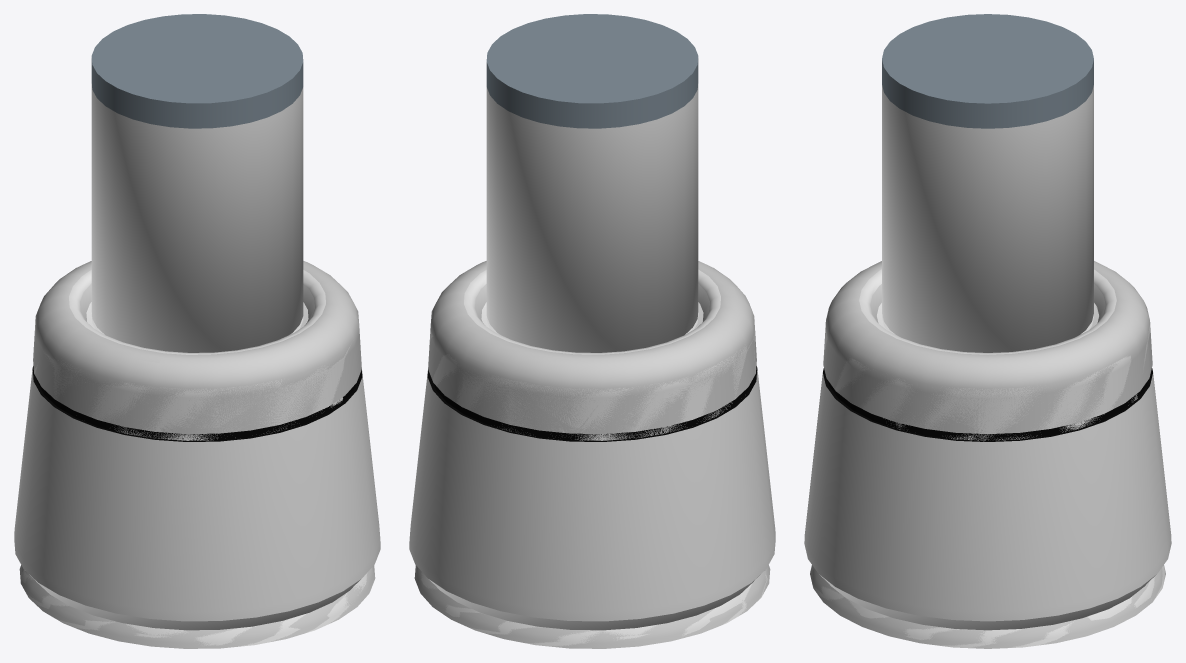
Rendered from incubator2.fbx.
The picture shows the model from 3 angles, left to right: view 1: azimuth 30°, elevation 25°; view 2: azimuth 150°, elevation 25°; view 3: azimuth 270°, elevation 25°; orthographic projection.
Visible parts, largest first — view 1: Circle, Circle.002, Circle.003, Circle.001; view 2: Circle, Circle.002, Circle.003, Circle.001; view 3: Circle, Circle.002, Circle.003, Circle.001.
Part boxes in pixels (x1,y1,x2,y2): Circle: (14,270,380,646); Circle.002: (91,84,303,352); Circle.003: (19,261,375,648); Circle.001: (91,14,303,128); Circle: (409,269,775,646); Circle.002: (486,84,698,352); Circle.003: (414,261,770,648); Circle.001: (486,14,698,128); Circle: (804,269,1171,648); Circle.002: (882,85,1093,352); Circle.003: (810,261,1165,648); Circle.001: (882,14,1093,128).
Bounding box in the file's own units: 622 × 963 × 622.
